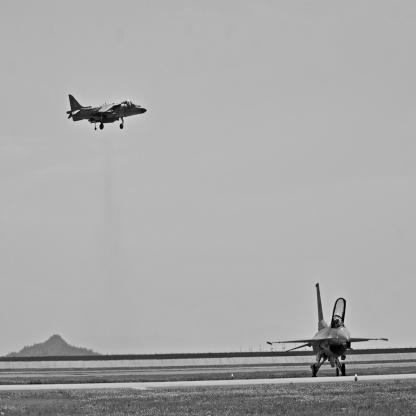AV8B: (67, 95, 148, 131)
F16: (268, 283, 390, 378)
